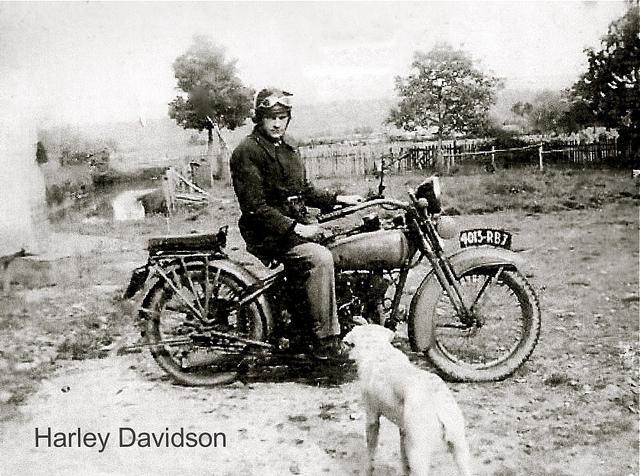motorcycle: (122, 158, 548, 385)
